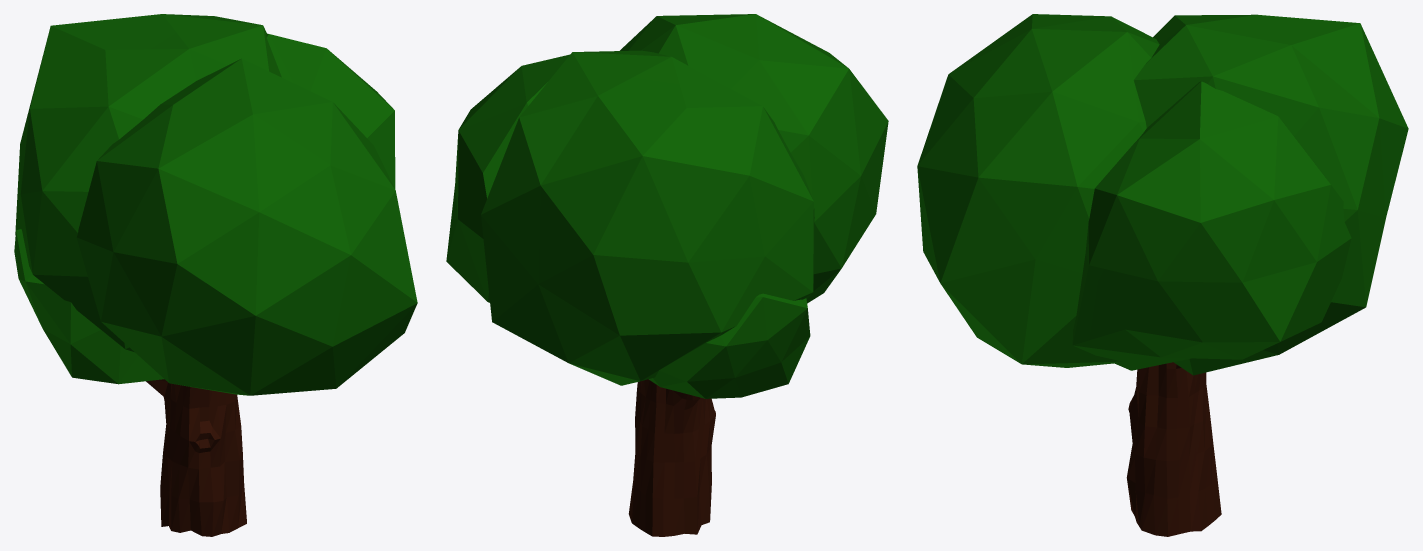
Rendered from tree.glb.
3 views of the same model, side by side, from view 1: azimuth 30°, elevation 25°; view 2: azimuth 150°, elevation 25°; view 3: azimuth 270°, elevation 25° (orthographic). The views are drawn at different scales.
Parts seen in each view (by area): view 1: Icosphere, Cylinder; view 2: Icosphere, Cylinder; view 3: Icosphere, Cylinder.
Part boxes in pixels (left/top/right/bottom): Icosphere: left=14, top=14, right=417, bottom=395; Cylinder: left=146, top=379, right=246, bottom=536; Icosphere: left=446, top=14, right=888, bottom=398; Cylinder: left=628, top=379, right=715, bottom=536; Icosphere: left=917, top=14, right=1408, bottom=375; Cylinder: left=1126, top=362, right=1221, bottom=536.
Size of the model in its own units: 16.5 by 21.82 by 19.57.
